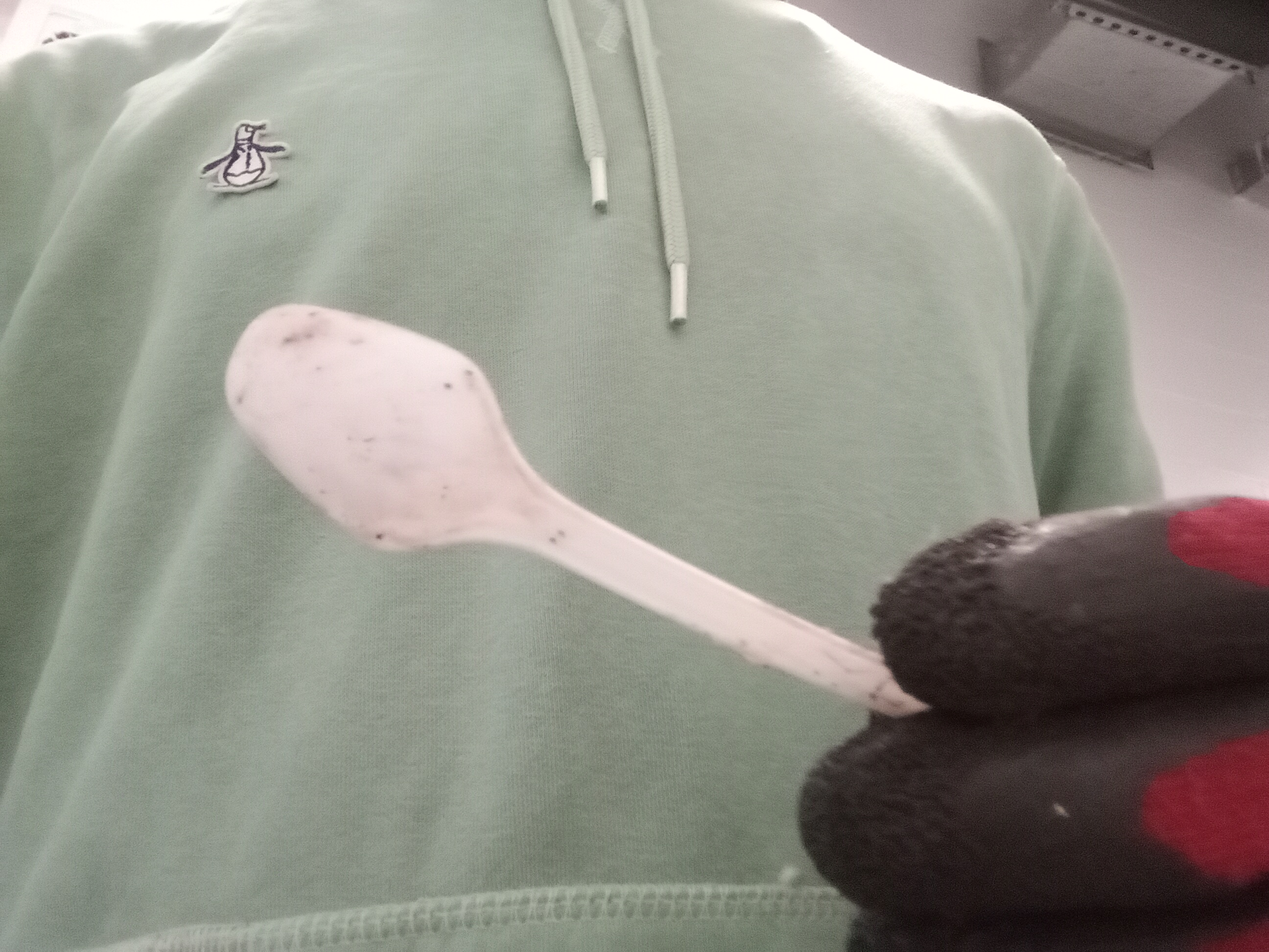Ordinario: (224, 304, 942, 717)
